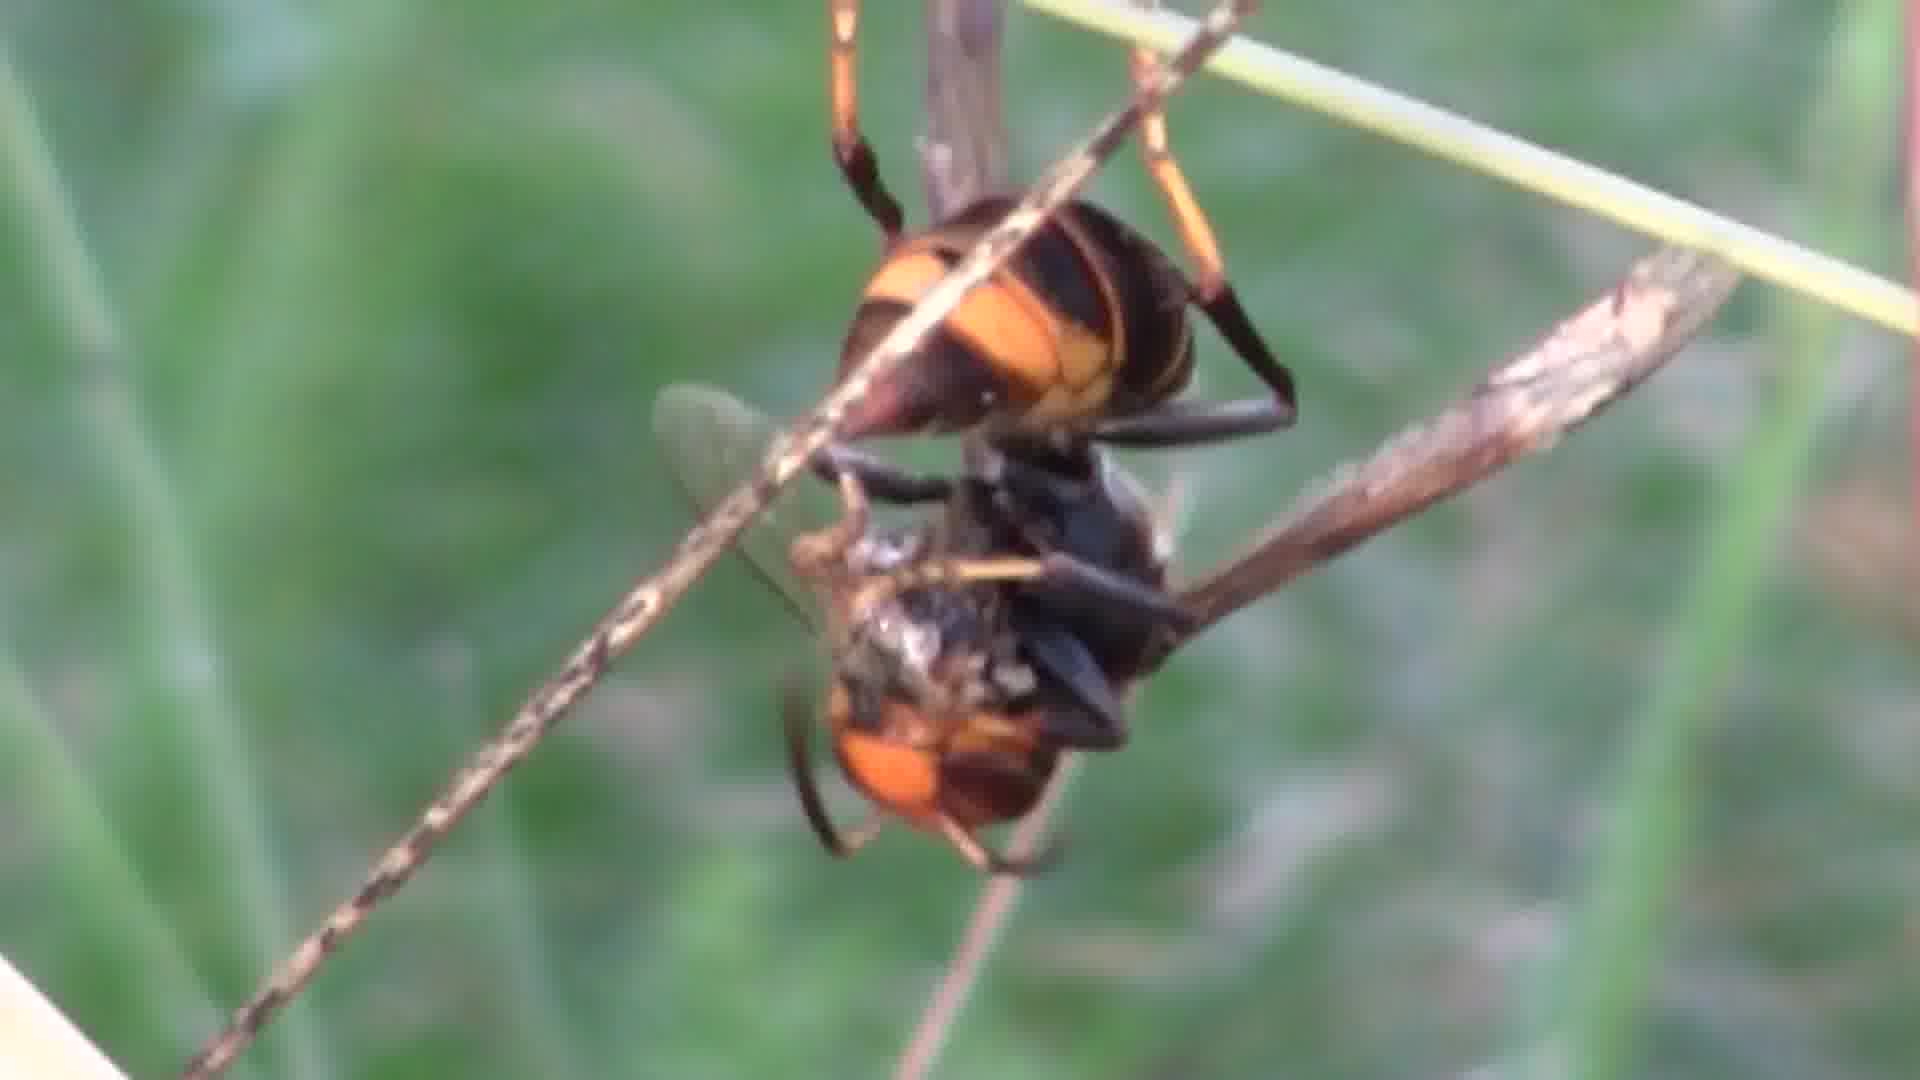hornet: (728, 36, 1280, 940)
